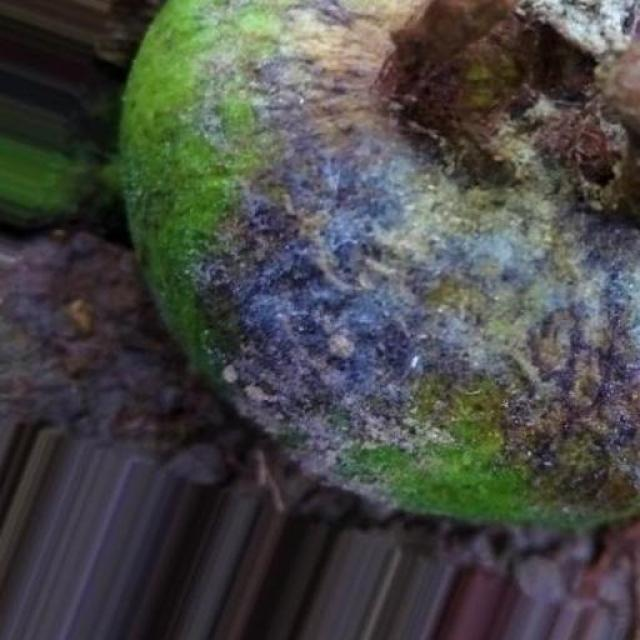Phytopthora: (129, 0, 640, 523)
